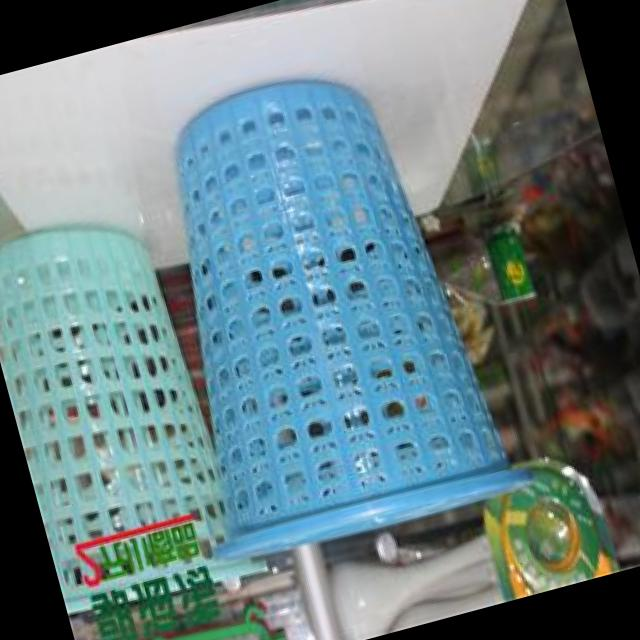dustbin: (98, 31, 541, 580)
